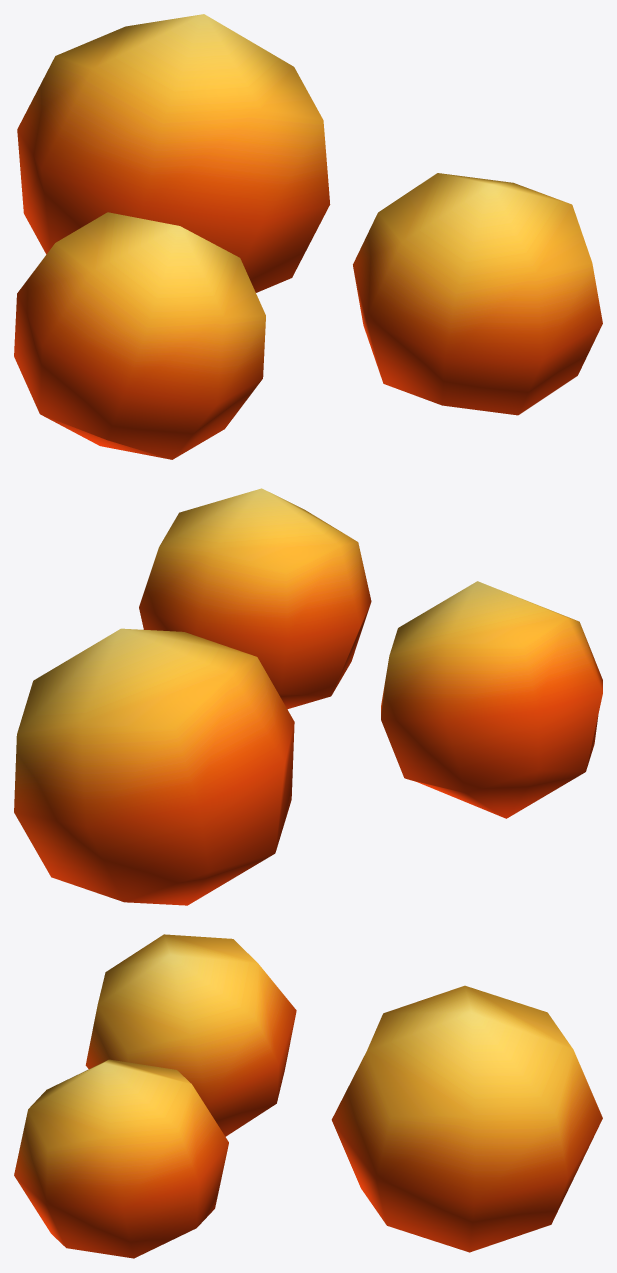
Rendered from m_LavaBubble01.fbx.
3 renders of one model, top to bottom at view 1: azimuth 30°, elevation 25°; view 2: azimuth 150°, elevation 25°; view 3: azimuth 270°, elevation 25°, orthographic. The views are drawn at different scales.
Parts seen in each view (by area): view 1: m_LavaBubble01; view 2: m_LavaBubble01; view 3: m_LavaBubble01.
Part boxes in pixels (<box>): m_LavaBubble01: <box>14,14,602,459</box>; m_LavaBubble01: <box>14,488,602,905</box>; m_LavaBubble01: <box>14,934,602,1258</box>.
Size of the model in its own units: 88.34 by 46.62 by 104.
